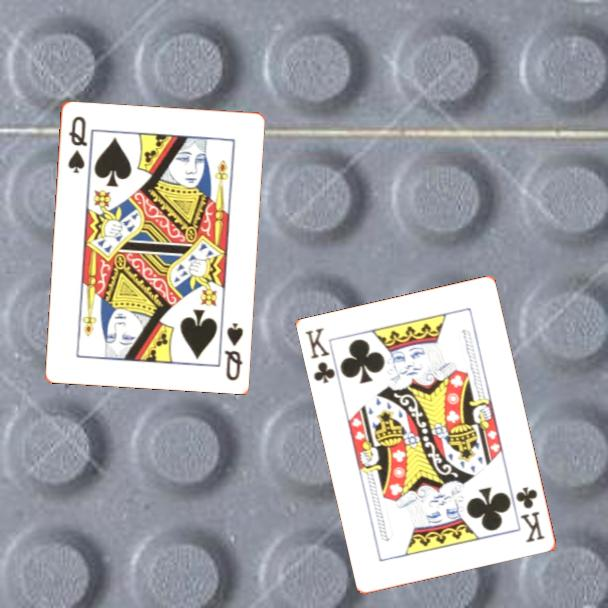c13: (302, 324, 338, 387), (512, 484, 548, 546)
s12: (64, 112, 90, 176), (221, 319, 246, 383)
